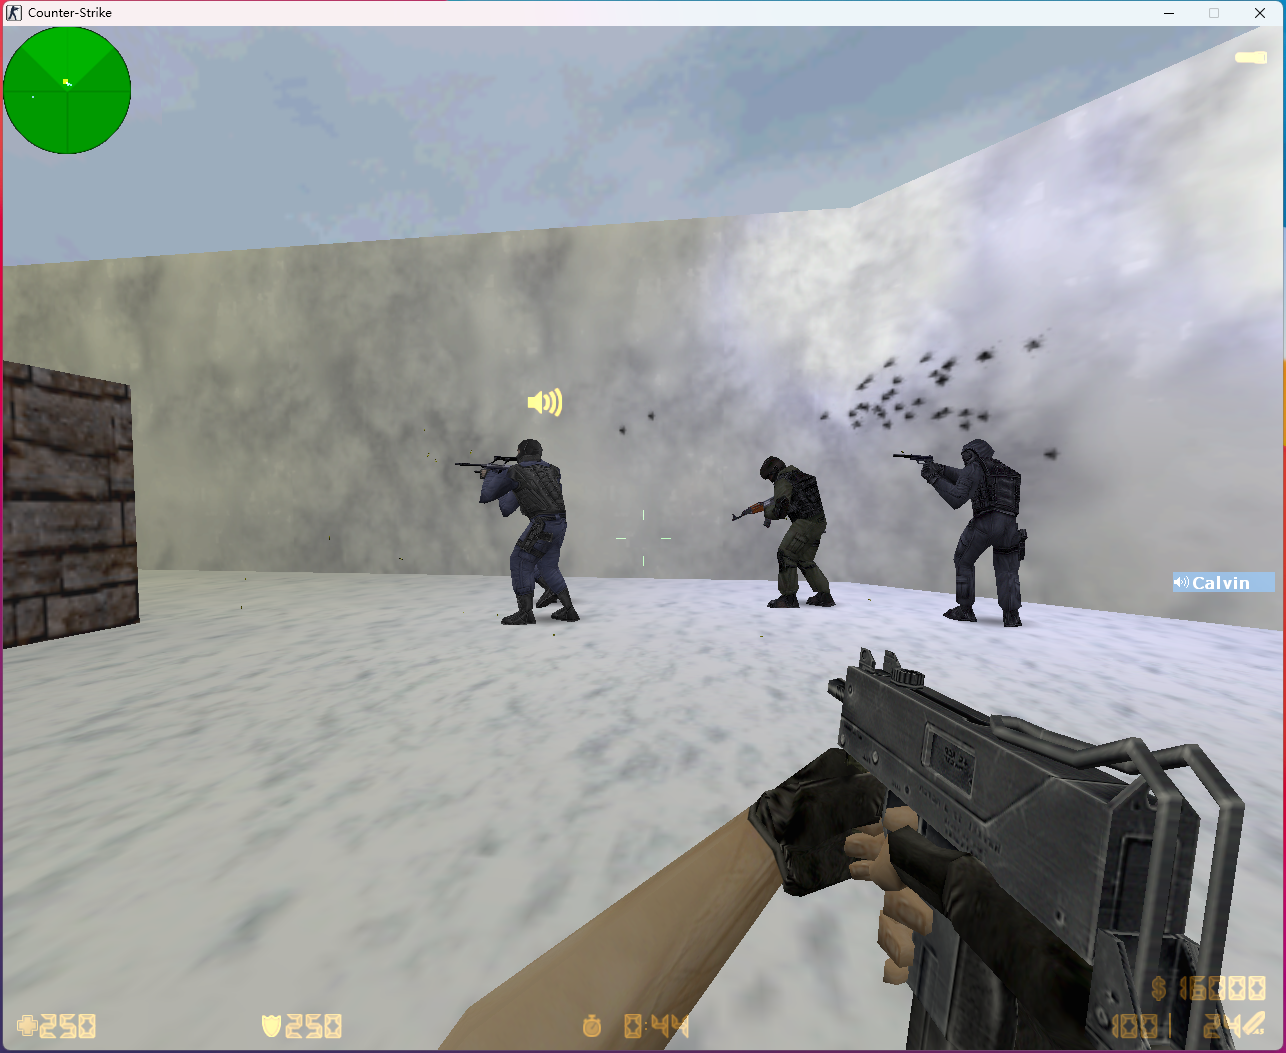C: (918, 440, 1028, 627), (479, 440, 580, 627), (730, 456, 840, 609)
